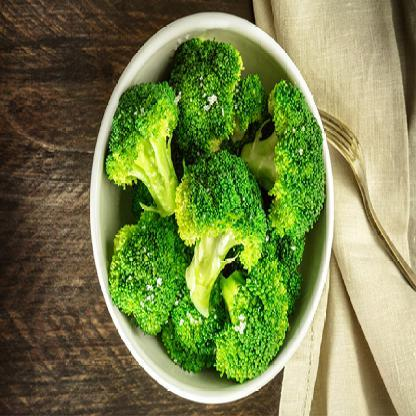broccoli: (101, 35, 324, 384)
